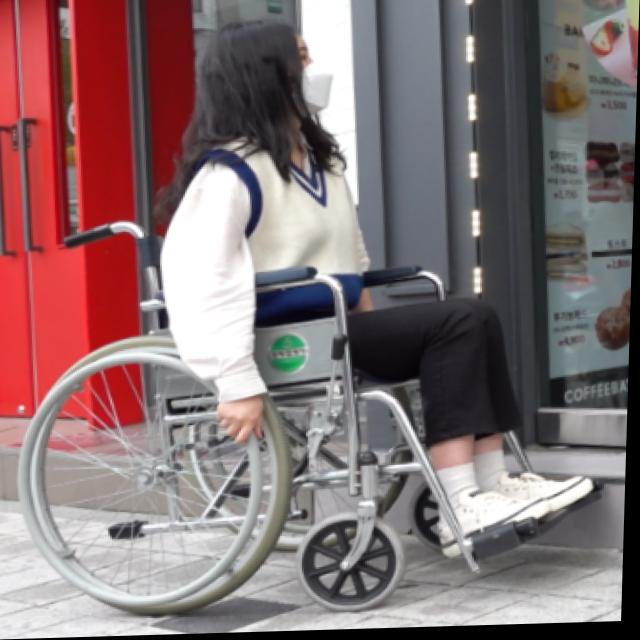wheelchair: (16, 13, 612, 620)
